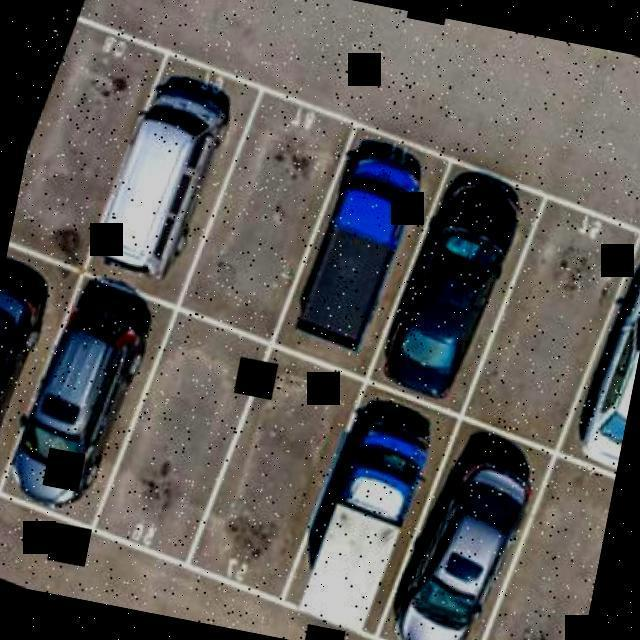space-empty: (457, 187, 640, 457), (178, 85, 355, 344), (92, 308, 268, 568), (189, 345, 359, 601), (8, 11, 165, 272), (468, 448, 617, 640)
space-occupied: (272, 377, 446, 640), (0, 279, 161, 541), (83, 52, 250, 301), (368, 430, 547, 640), (371, 167, 522, 411), (282, 136, 433, 364), (564, 249, 640, 468), (0, 243, 63, 500)
